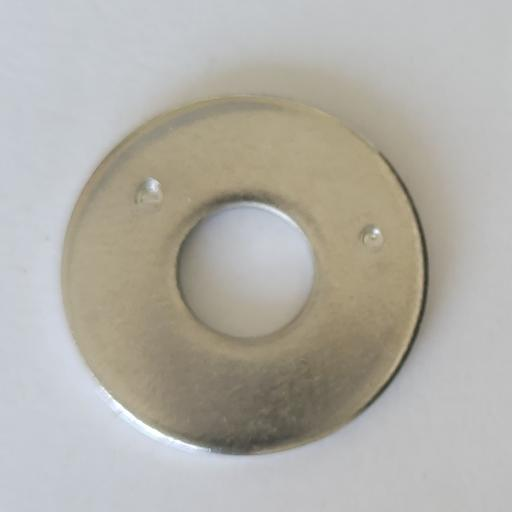circular_cavity: (134, 177, 164, 213), (361, 224, 386, 251)
